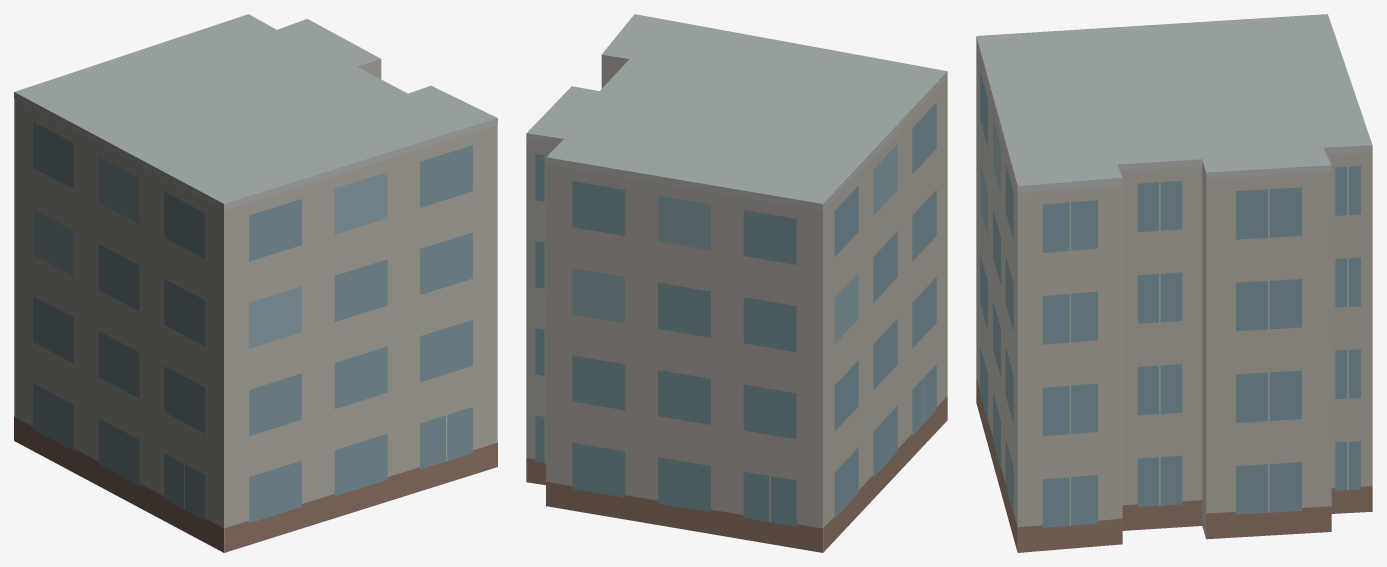
Rendered from survey-upis-32531908.glb.
3 renders of one model, left to right at view 1: azimuth 30°, elevation 25°; view 2: azimuth 150°, elevation 25°; view 3: azimuth 270°, elevation 25°, orthographic. The views are drawn at different scales.
Visible parts, largest first — view 1: survey-upis-32531908.tmp; view 2: survey-upis-32531908.tmp; view 3: survey-upis-32531908.tmp.
Boxes of the visible parts, x1,y1,x2,y2 form: survey-upis-32531908.tmp: (14,14,497,552); survey-upis-32531908.tmp: (526,14,947,552); survey-upis-32531908.tmp: (976,14,1372,552).
Bounding box in the file's own units: 12.75 × 12.64 × 12.39.
